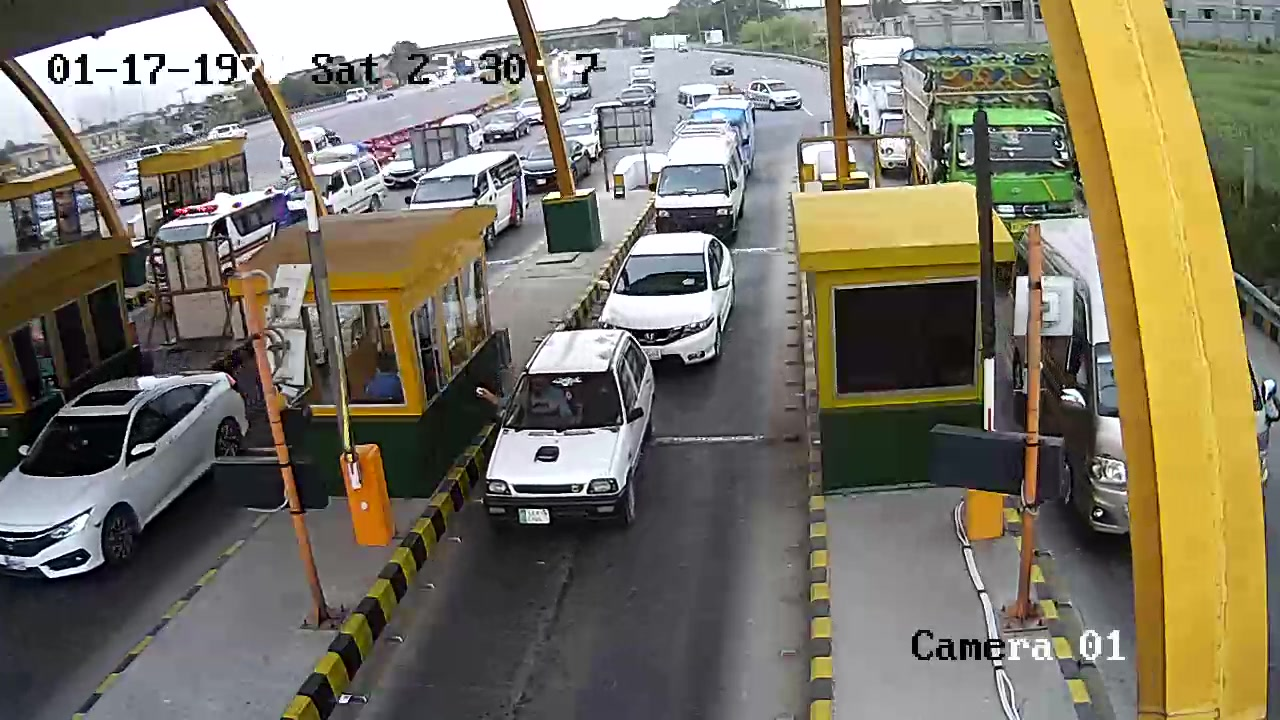F1: (475, 319, 661, 546), (595, 229, 752, 374)
